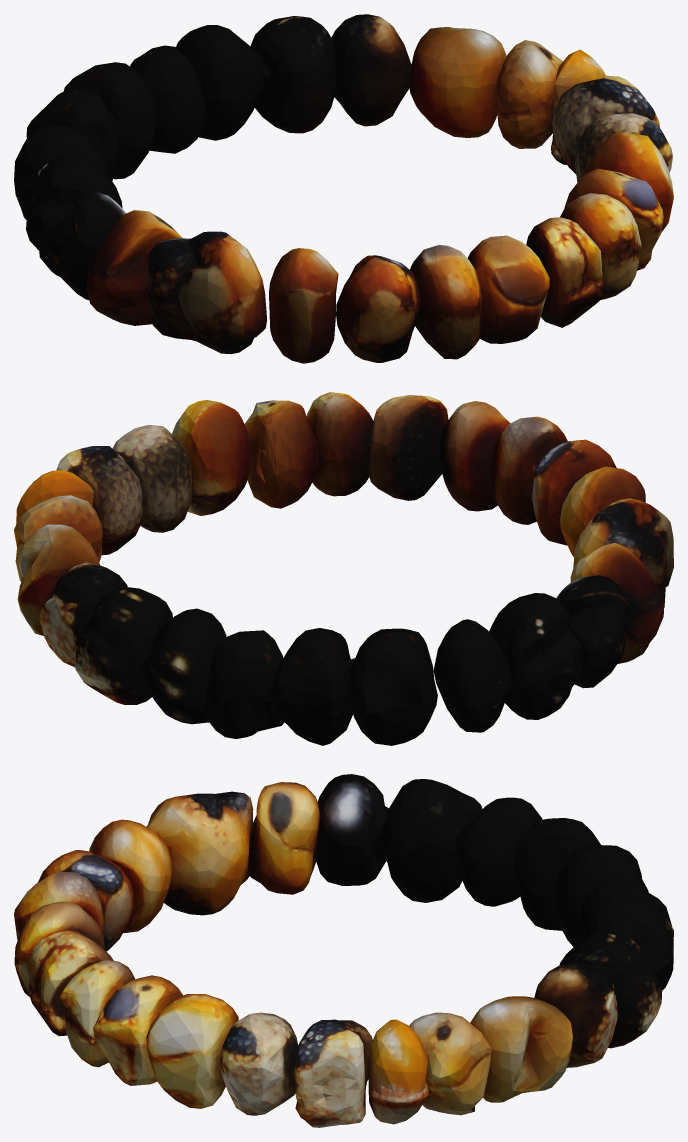
Rendered from coral-bead-bracelet-organic hi-res.jpeg.glb.
The picture shows the model from 3 angles, top to bottom: view 1: azimuth 30°, elevation 25°; view 2: azimuth 150°, elevation 25°; view 3: azimuth 270°, elevation 25°; orthographic projection.
Visible parts, largest first — view 1: world; view 2: world; view 3: world.
Part boxes in pixels (box(x1,y1,x2,y2)): world: box(14, 14, 673, 363); world: box(14, 392, 673, 745); world: box(14, 774, 673, 1127).
Bounding box in the file's own units: 0.9987 × 0.1979 × 0.9994.
1 material, 1 textured.
